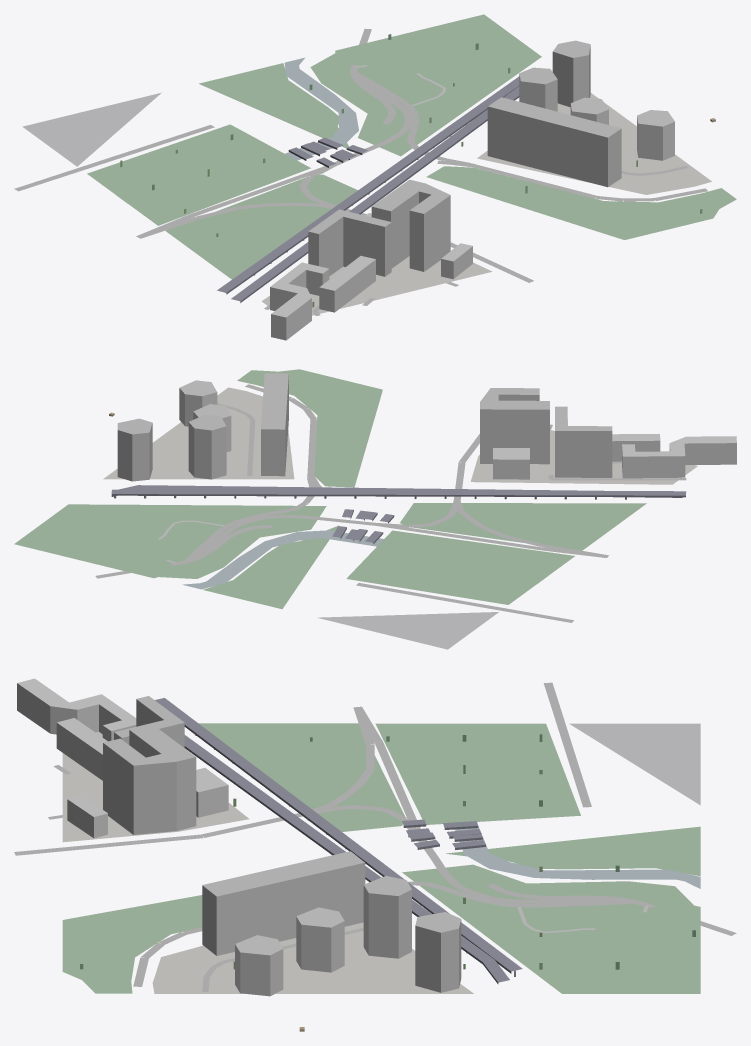
3 renders of one model, top to bottom at view 1: azimuth 30°, elevation 25°; view 2: azimuth 150°, elevation 25°; view 3: azimuth 270°, elevation 25°, orthographic. The views are drawn at different scales.
Size of the model in its own units: 646 by 63.05 by 567.
